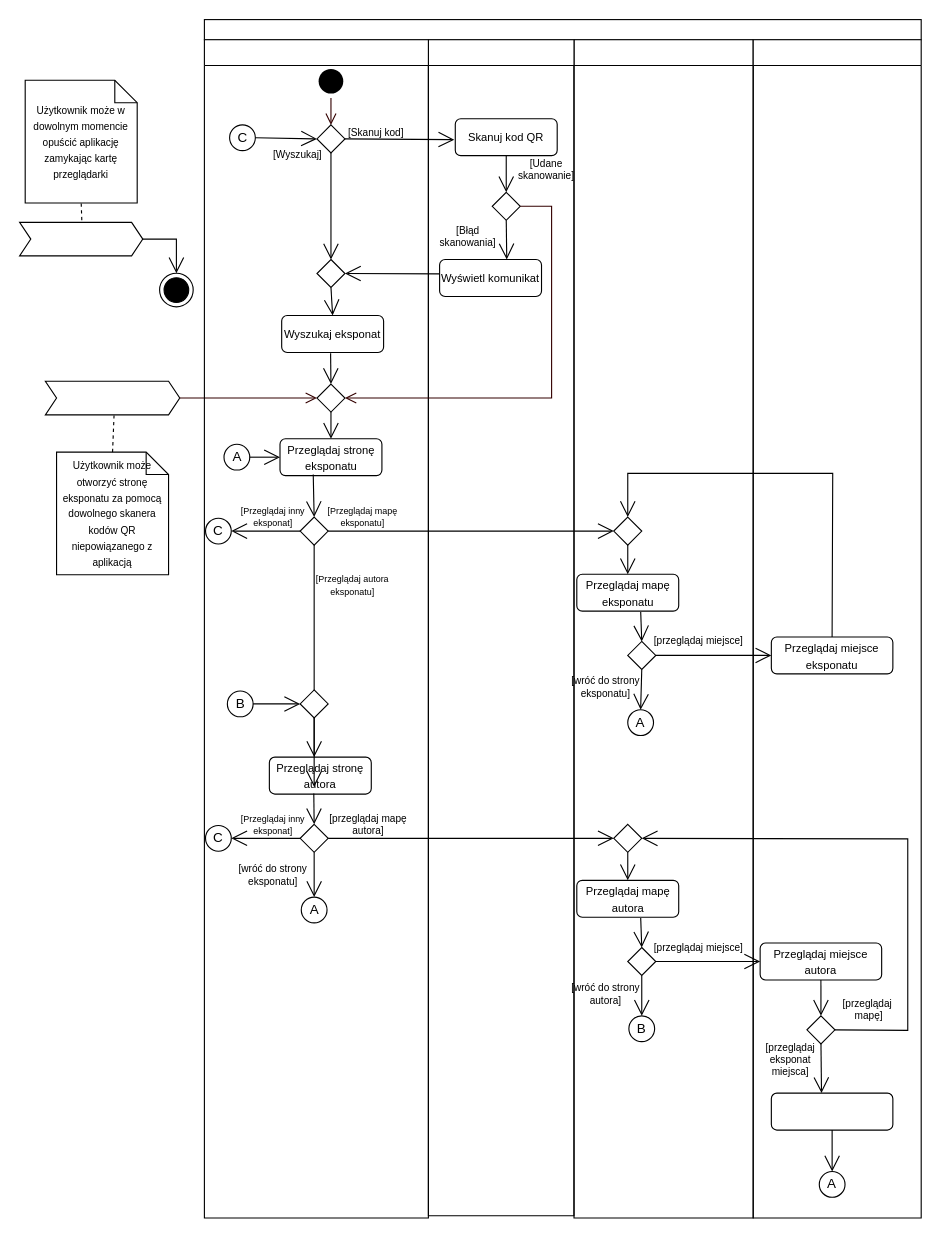
Image size: 943x1238. Some labels were removed from this diagram. Here are the shapes that lost their labels. From the top down, the box of each, then its label:
(203, 18, 921, 40): Aplikacja dla Użytkowników
(18, 221, 143, 256): zamknij kartę przeglądarki
(44, 380, 180, 415): Otwórz kod QR zewnętrznym narzędziem
(203, 39, 428, 1218): Strona autora lub eksponatu
(427, 39, 574, 1216): Skaner kodów QR
(573, 39, 753, 1218): Widok mapy
(752, 39, 921, 1218): Widok danych miejsca szczególnego
(770, 1092, 893, 1130): Przeglądaj listę eksponatów miejsca
